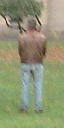person: (14, 13, 49, 113)
